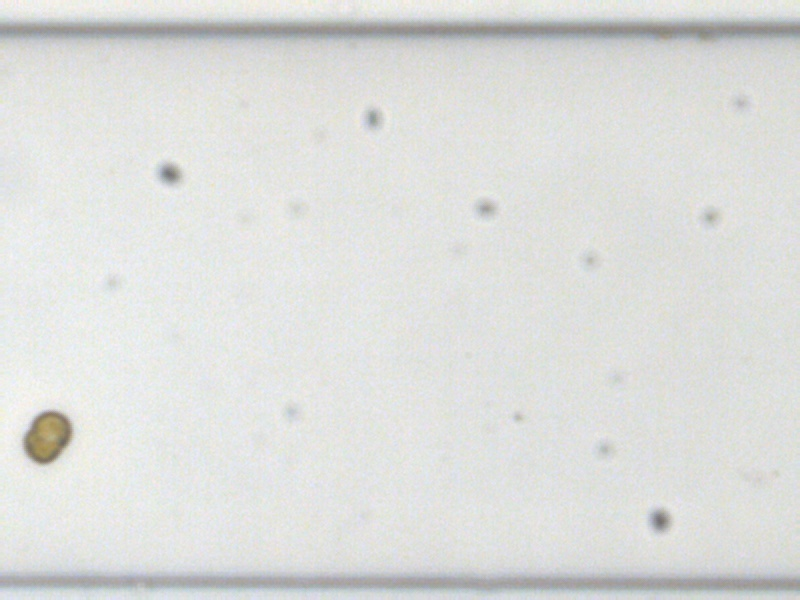Effrenium: (20, 407, 71, 465)
